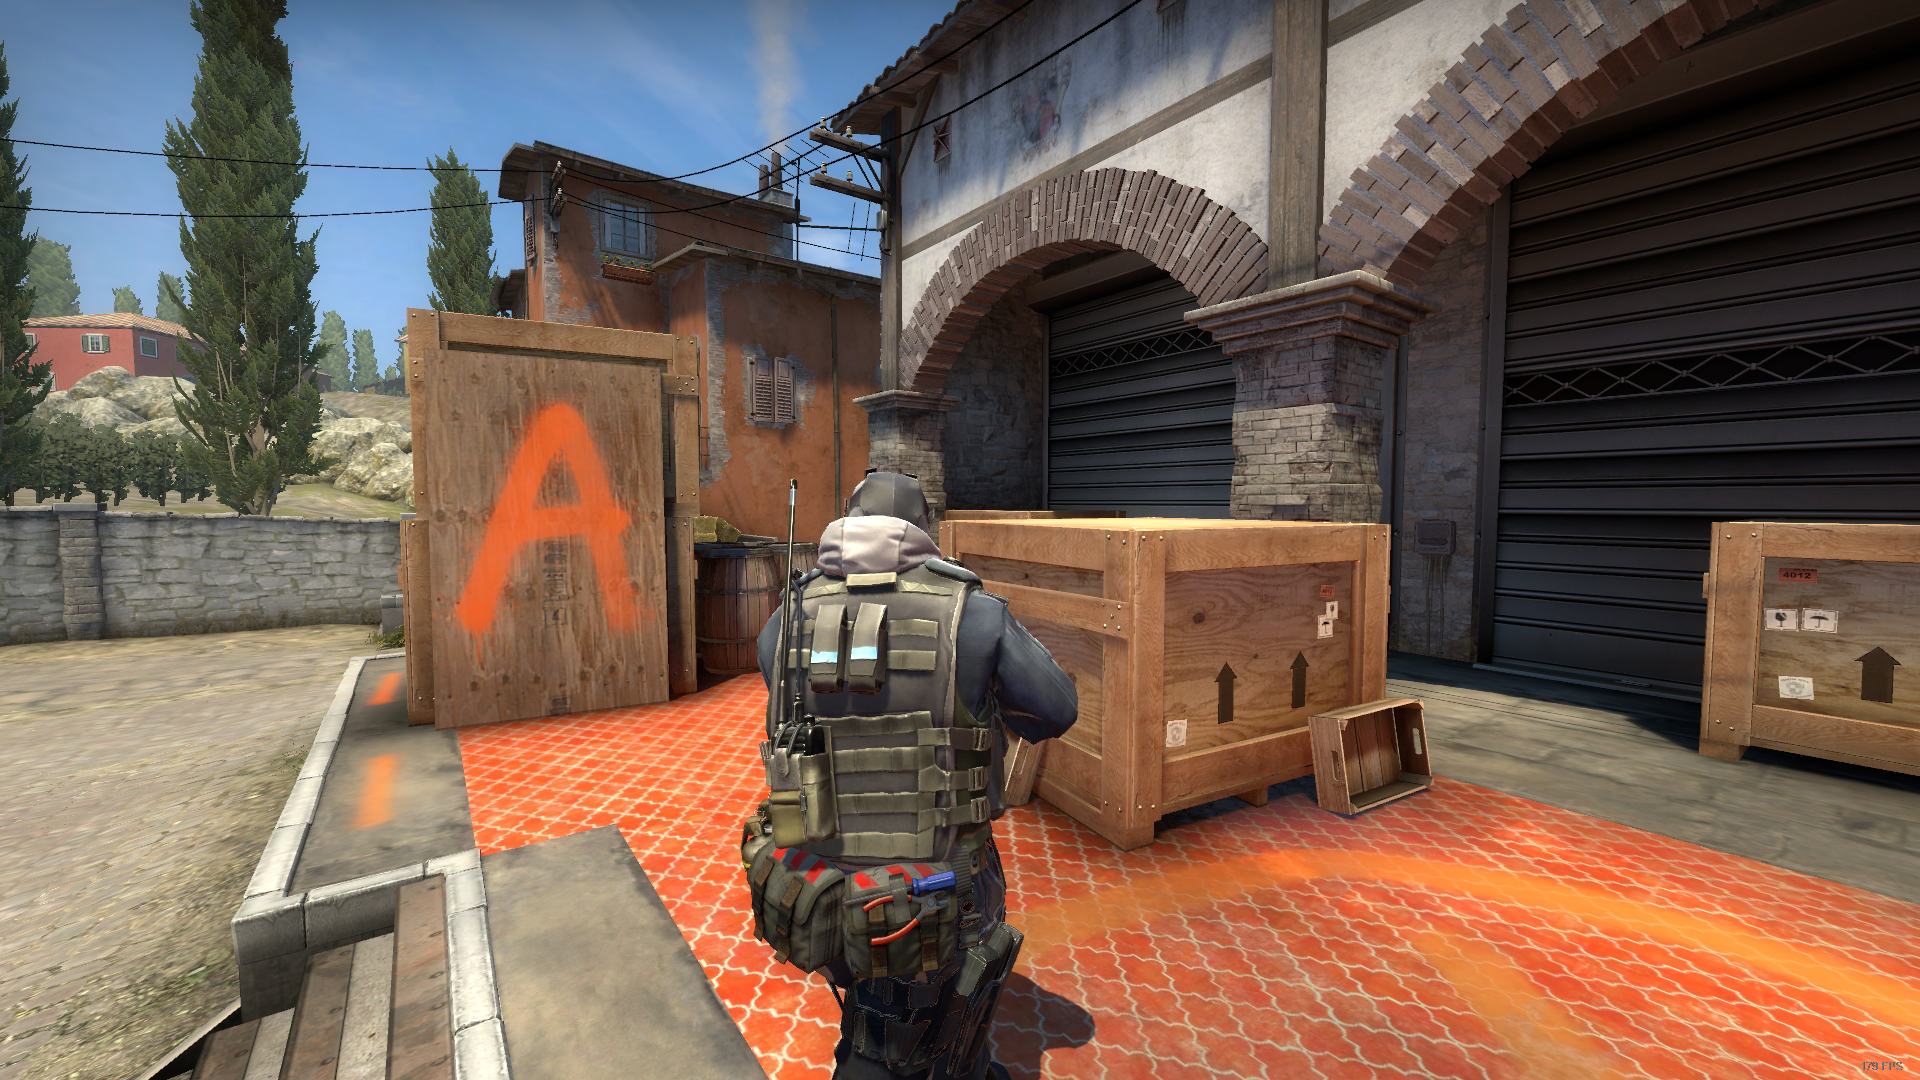ct: (737, 464, 1077, 1080)
